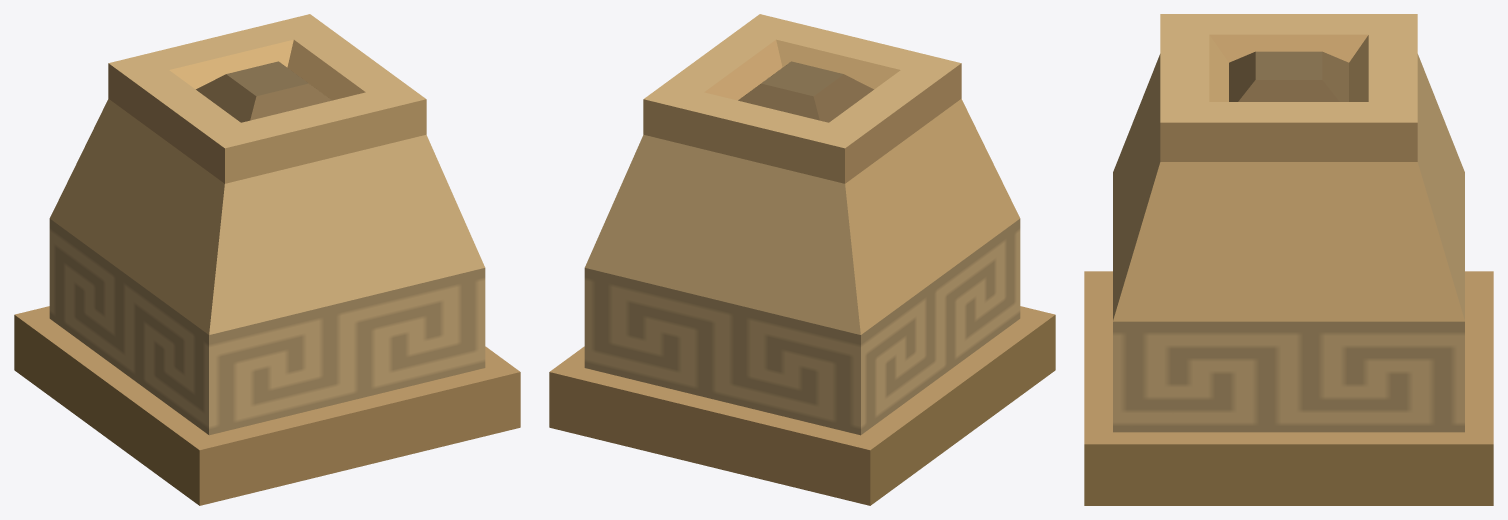
File: ST_Prop_Brazier_01.fbx
3 renders of one model, left to right at view 1: azimuth 30°, elevation 25°; view 2: azimuth 150°, elevation 25°; view 3: azimuth 270°, elevation 25°, orthographic. The views are drawn at different scales.
Parts seen in each view (by area): view 1: ST_Prop_Brazier_01; view 2: ST_Prop_Brazier_01; view 3: ST_Prop_Brazier_01.
Part boxes in pixels (x1=…): ST_Prop_Brazier_01: x1=14, y1=14, x2=520, y2=505; ST_Prop_Brazier_01: x1=549, y1=14, x2=1055, y2=505; ST_Prop_Brazier_01: x1=1084, y1=14, x2=1493, y2=505.
Size of the model in its own units: 1.32 by 1.26 by 1.32.
